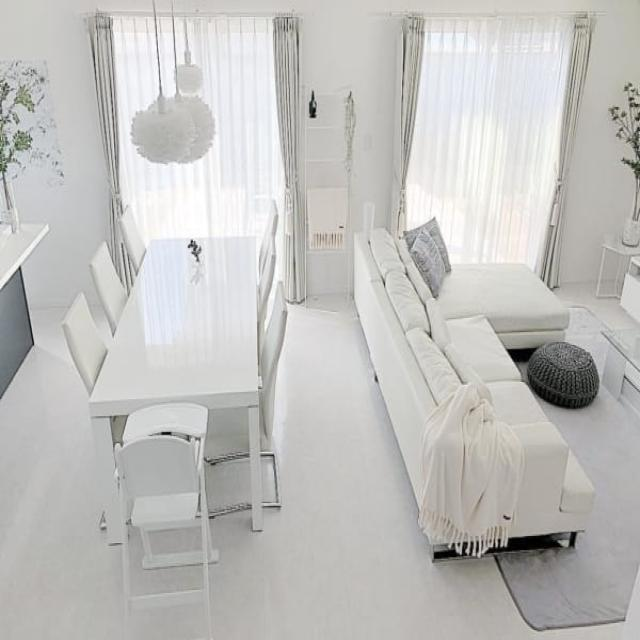white desk: (90, 217, 270, 538)
white sofa: (339, 224, 603, 562)
